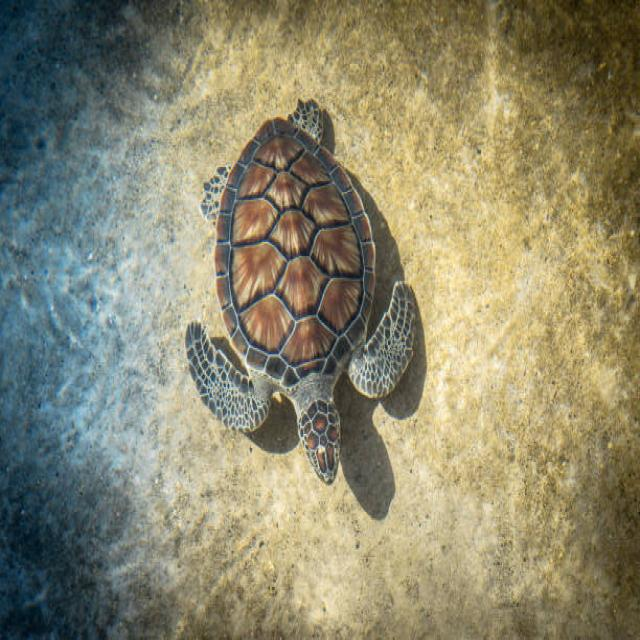sea turtle: (157, 66, 498, 480), (163, 298, 259, 456), (340, 264, 439, 412), (289, 400, 353, 494)
